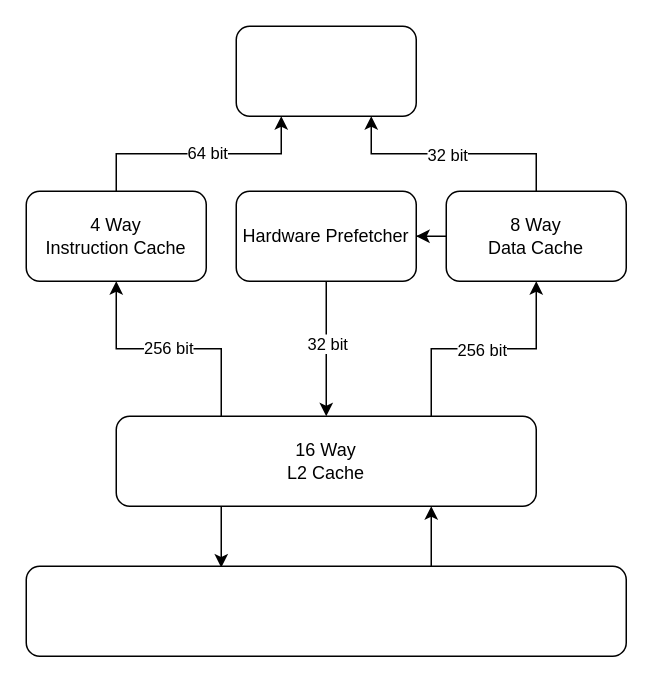
Image size: 653x683. Some labels were removed from this diagram. Each missing label, with the centre of its shape:
CPU: the point at 325,70
Memory Model: the point at 325,610
